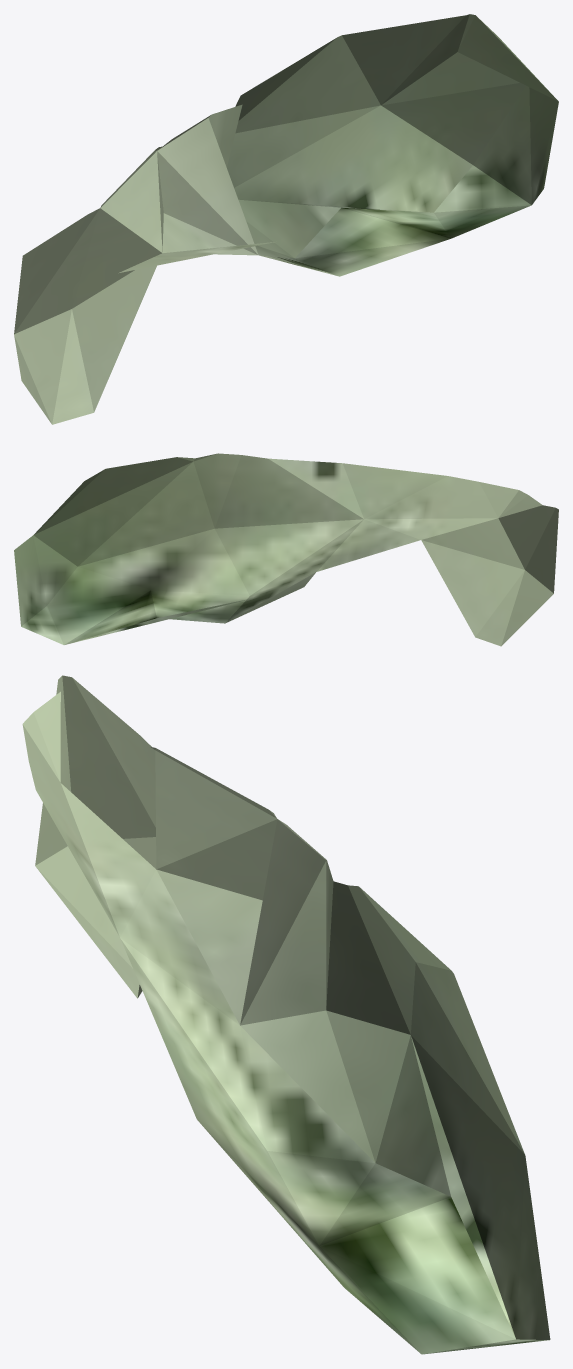
3 renders of one model, top to bottom at view 1: azimuth 30°, elevation 25°; view 2: azimuth 150°, elevation 25°; view 3: azimuth 270°, elevation 25°, orthographic. The views are drawn at different scales.
Bounding box in the file's own units: 6.24 × 1.99 × 3.26.
Materials: 1 (1 with a texture image).
